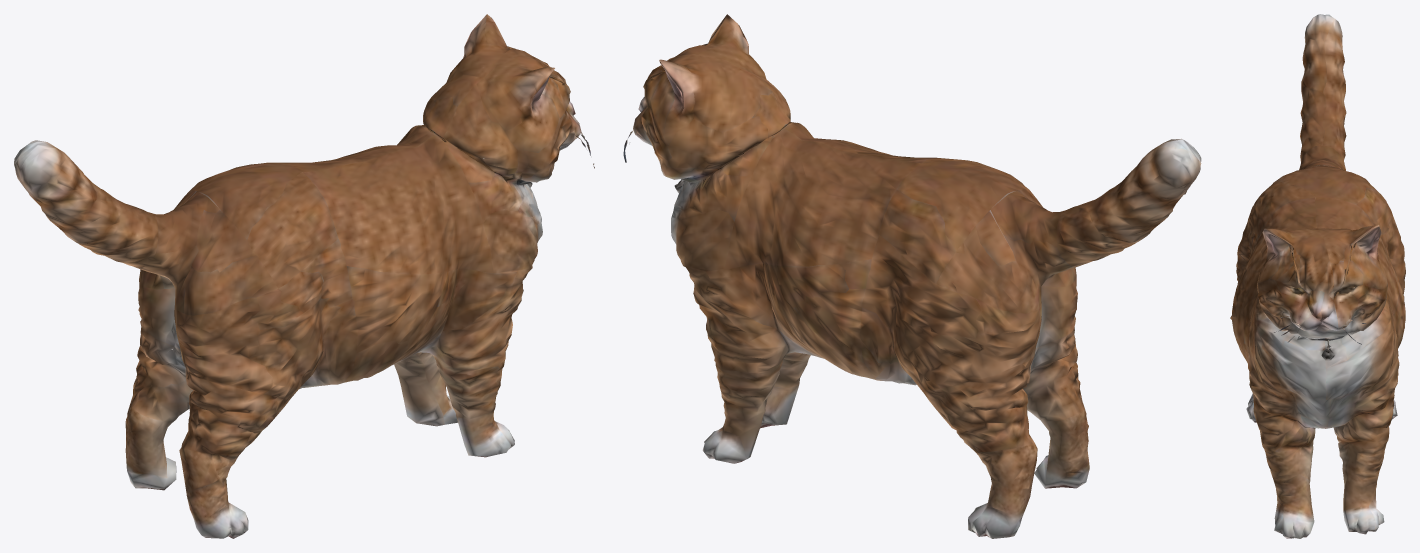
Rendered from GATEKITTY-lo.glb.
3 renders of one model, left to right at view 1: azimuth 30°, elevation 25°; view 2: azimuth 150°, elevation 25°; view 3: azimuth 270°, elevation 25°, orthographic. The views are drawn at different scales.
Parts seen in each view (by area): view 1: tripo_node_6e343410-6962-4d59-9a36-f67c534abf38; view 2: tripo_node_6e343410-6962-4d59-9a36-f67c534abf38; view 3: tripo_node_6e343410-6962-4d59-9a36-f67c534abf38.
Boxes of the visible parts, x1=… form: tripo_node_6e343410-6962-4d59-9a36-f67c534abf38: x1=14, y1=14, x2=594, y2=538; tripo_node_6e343410-6962-4d59-9a36-f67c534abf38: x1=623, y1=14, x2=1201, y2=538; tripo_node_6e343410-6962-4d59-9a36-f67c534abf38: x1=1230, y1=14, x2=1405, y2=538.
Size of the model in its own units: 1.44 by 0.9962 by 0.4667.
1 material, 1 textured.
